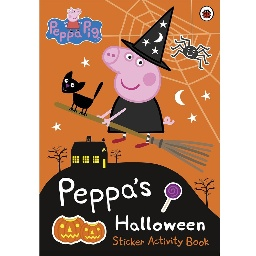Peppa: (98, 6, 174, 150)
